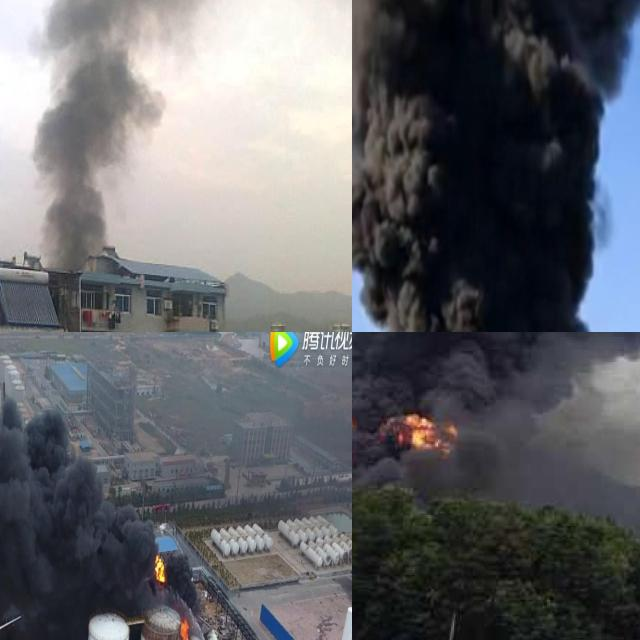fire: (390, 410, 457, 448), (154, 553, 165, 584), (178, 619, 190, 640)
smoke: (352, 0, 640, 332), (26, 0, 283, 266), (0, 332, 195, 640), (352, 332, 640, 499)
